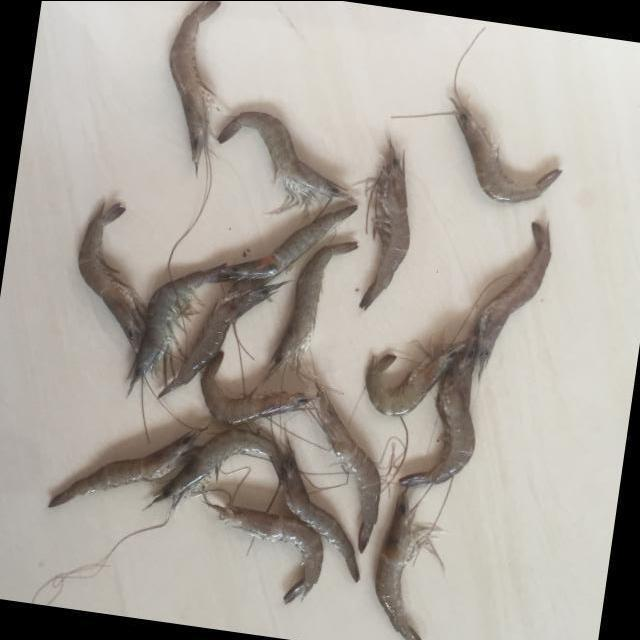shrimp: (158, 280, 289, 397), (217, 110, 357, 215), (126, 261, 234, 397), (266, 241, 358, 378), (449, 96, 563, 201), (399, 335, 478, 486), (48, 430, 200, 507), (207, 503, 323, 603), (475, 222, 552, 372), (147, 428, 284, 508), (318, 387, 381, 553), (220, 203, 358, 278), (284, 448, 360, 582), (77, 201, 145, 350), (169, 0, 221, 171), (360, 137, 410, 309), (200, 351, 317, 424), (367, 340, 467, 415), (376, 490, 421, 640)
